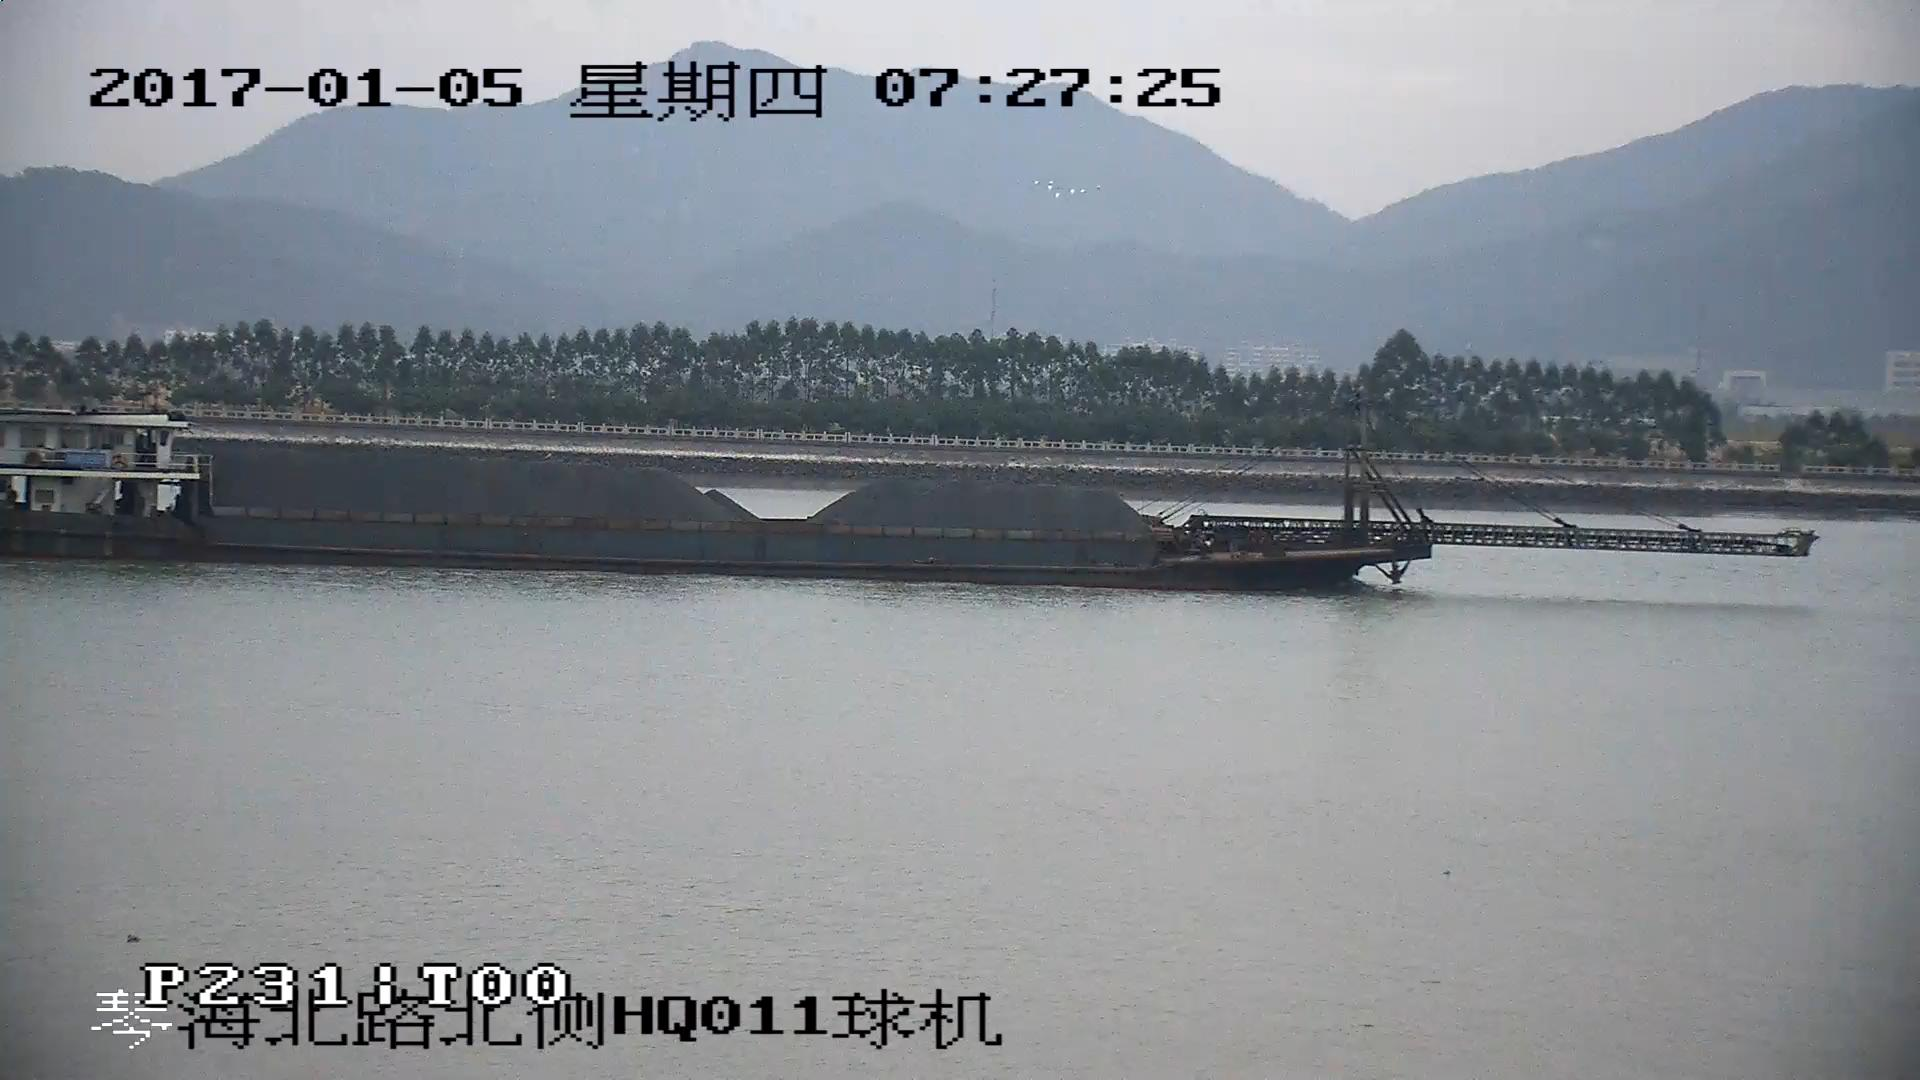ore carrier: (1, 412, 1808, 582)
